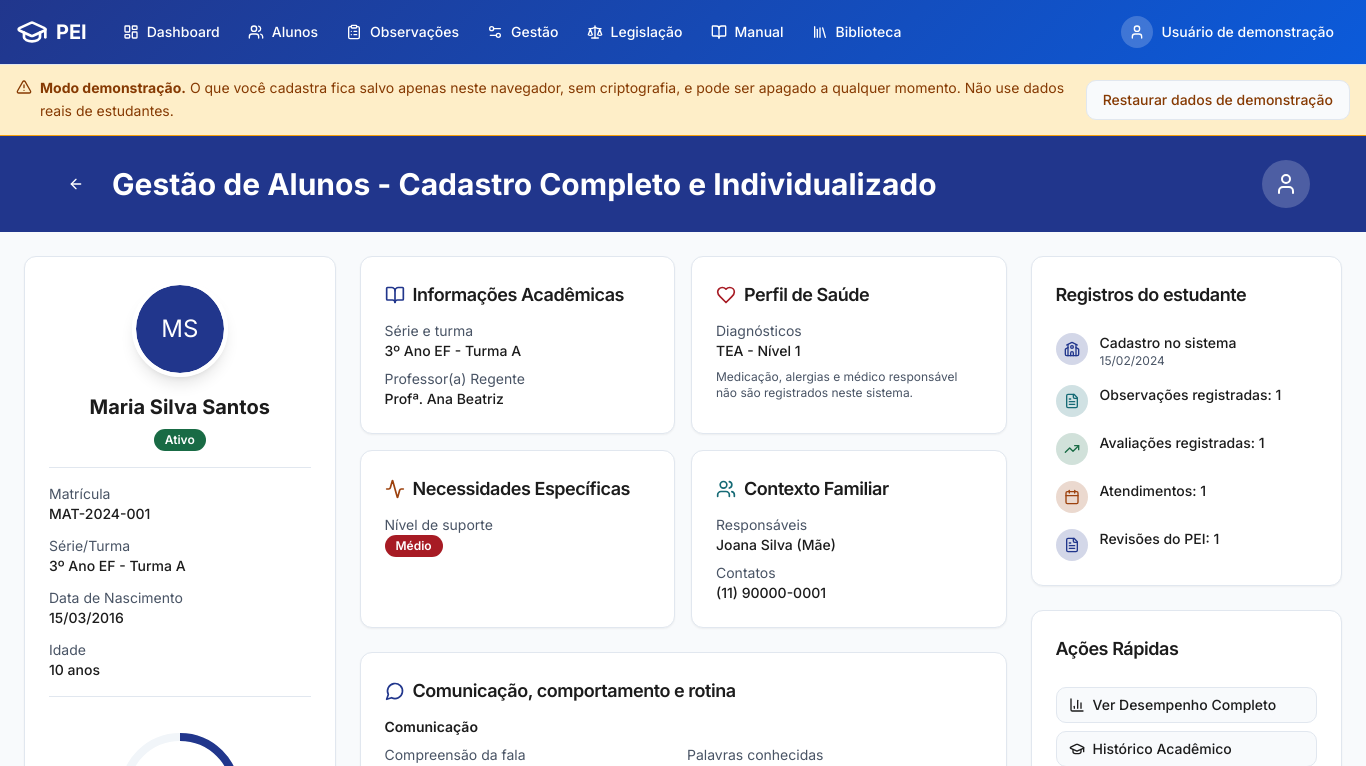
Test: Desempenho: os números vêm dos registros do estudante › as duas medidas aparecem com nomes diferentes, e o exemplo fixo sumiu
The width and height of the screenshot is (1366, 766).
What coordinates should you click on to do the following:
click the button "Ver Desempenho Completo"
I would click on:
 (1186, 704)
Its box is [1056, 686, 1317, 722].
(page scrolled)
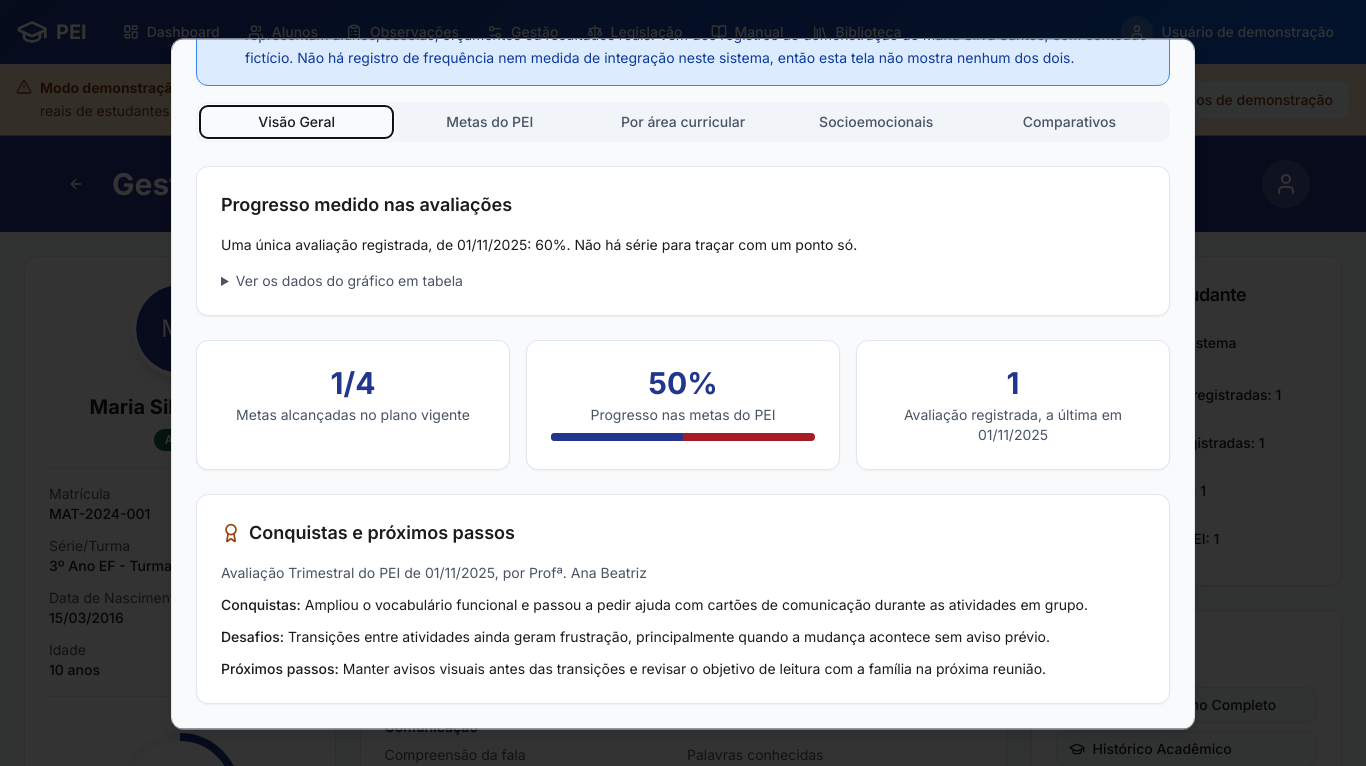
Expected: the text "Uma única avaliação registrada, de 01/11/2025: 60%" is shown, [221, 237, 857, 254]
Expected: the text "Progresso nas metas do PEI" is shown, [590, 407, 776, 424]
Expected: the text "50%" is shown, [648, 366, 718, 402]
